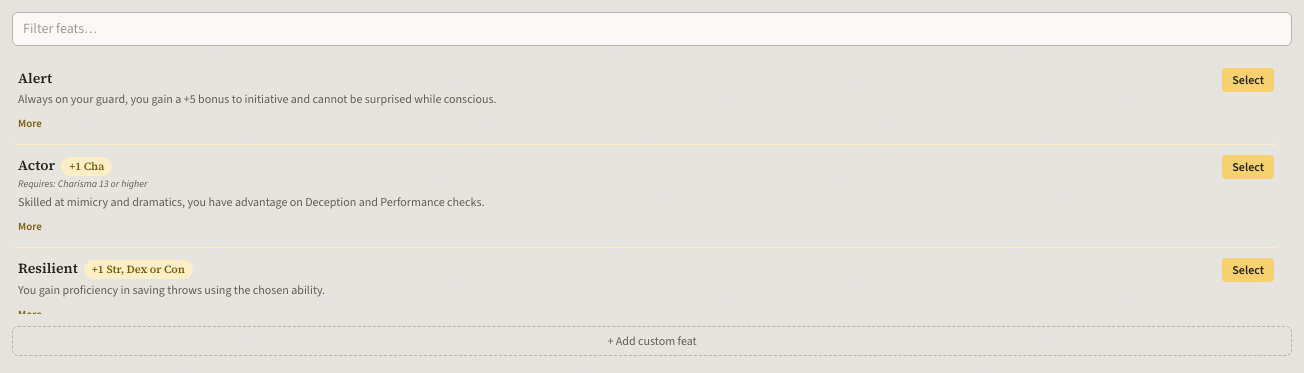
Scenario: FeatFlow — detail / confirm (frame D) › shows the chip beside the serif title
What coordinates should you click on to do the following:
click the button "Select" in the row of "Resilient"
I would click on:
 (1248, 270)
Its box is [1222,258,1274,282].
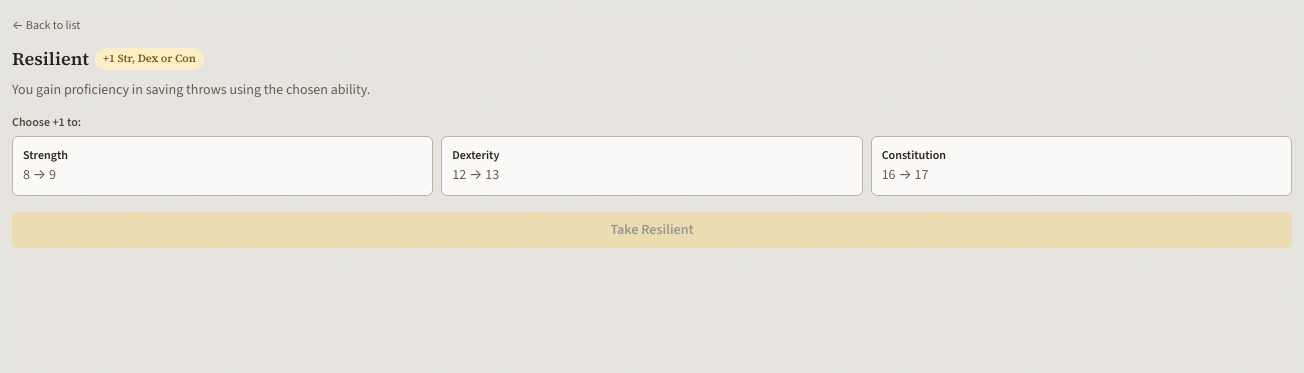
Expected: the text "+1 Str, Dex or Con" is shown, [95,48,204,70]
Result: the button "← Back to list" is shown at [12,17,80,33]
